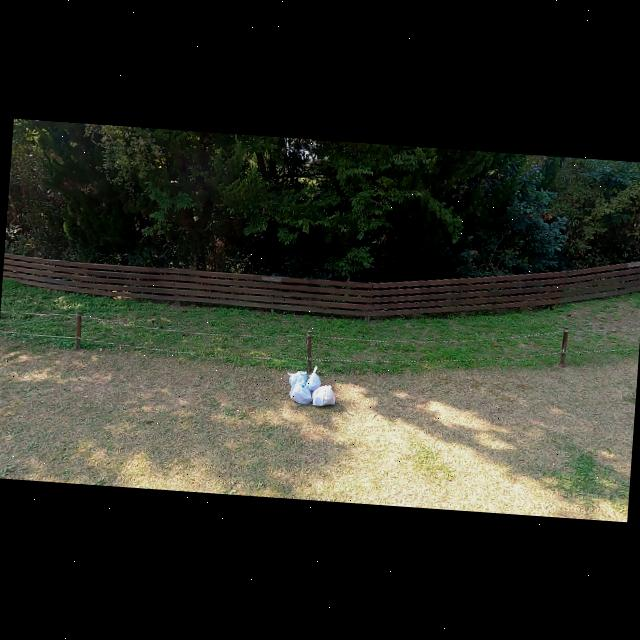trash: (288, 379, 314, 408), (310, 383, 336, 408), (284, 368, 307, 393), (306, 364, 322, 392)
